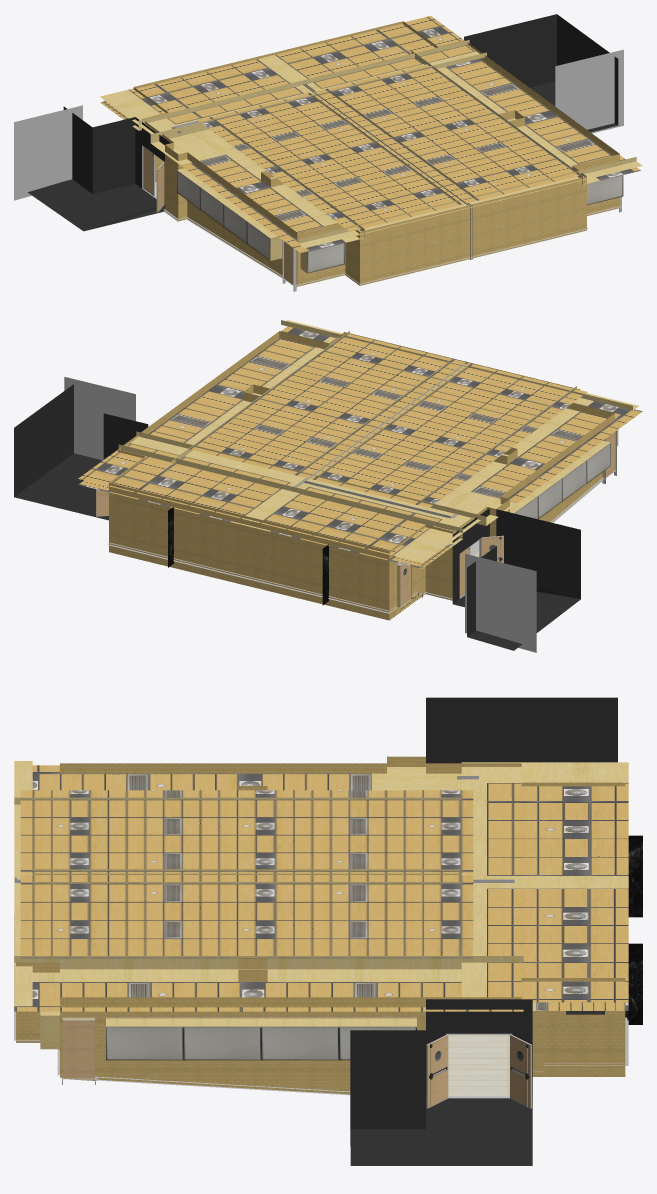
The model's file is salaPrensa.FBX.
The picture shows the model from 3 angles, top to bottom: view 1: azimuth 30°, elevation 25°; view 2: azimuth 150°, elevation 25°; view 3: azimuth 270°, elevation 25°; orthographic projection. The views are drawn at different scales.
Parts seen in each view (by area): view 1: salaPrensa; view 2: salaPrensa; view 3: salaPrensa.
Part boxes in pixels (x1,y1,x2,y2): salaPrensa: (14, 14, 642, 291); salaPrensa: (14, 320, 642, 652); salaPrensa: (14, 697, 642, 1165).
Bounding box in the file's own units: 484 × 68.36 × 334.
